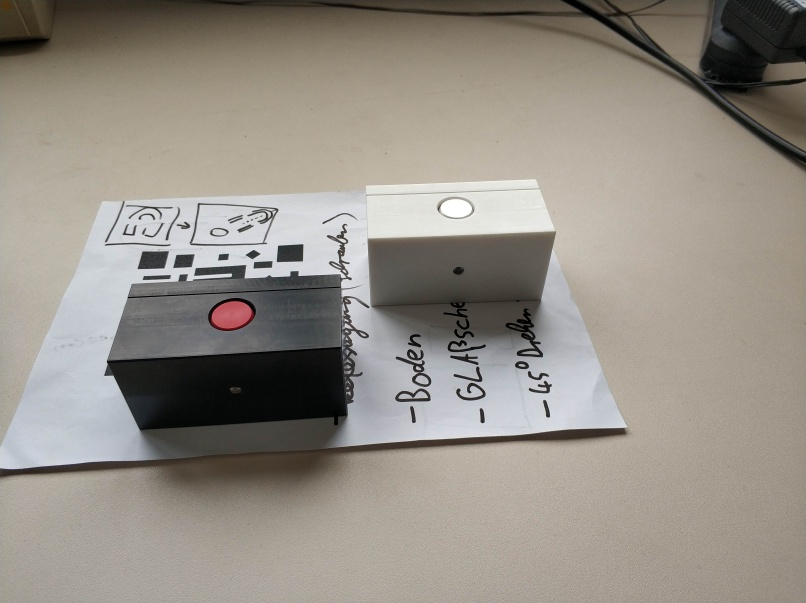black+black+red: (105, 272, 351, 433)
white+white+silver: (363, 177, 559, 308)
